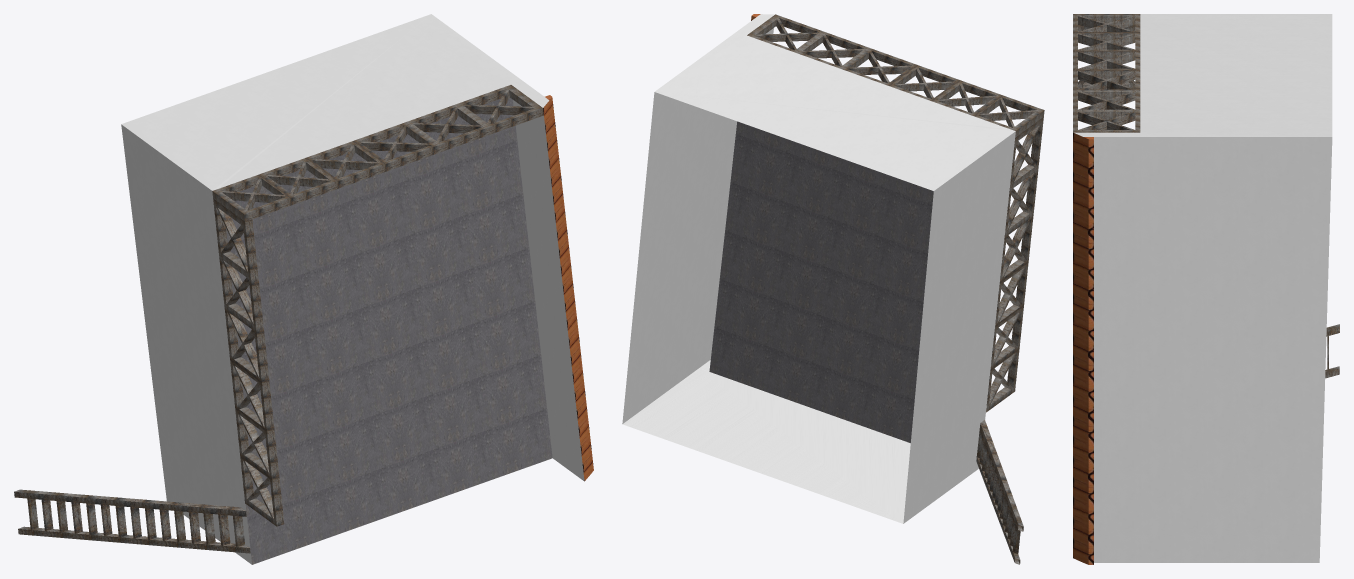
Rendered from Aia_17.obj.
3 renders of one model, left to right at view 1: azimuth 30°, elevation 25°; view 2: azimuth 150°, elevation 25°; view 3: azimuth 270°, elevation 25°, orthographic. The views are drawn at different scales.
Parts seen in each view (by area): view 1: Aia_17; view 2: Aia_17, xxx; view 3: Aia_17.
Boxes of the visible parts, x1,y1,x2,y2 form: Aia_17: (14,14,593,564); Aia_17: (622,14,1044,564); xxx: (622,368,910,523); Aia_17: (1073,14,1339,564).
Size of the model in its own units: 8.7 by 7.64 by 4.14.
4 materials, 4 textured.
